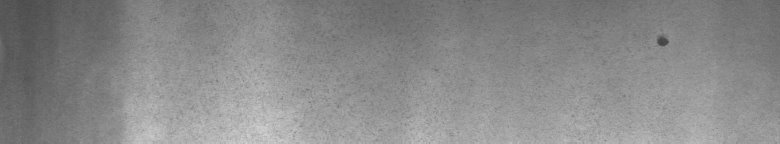fi: (648, 28, 672, 52)
